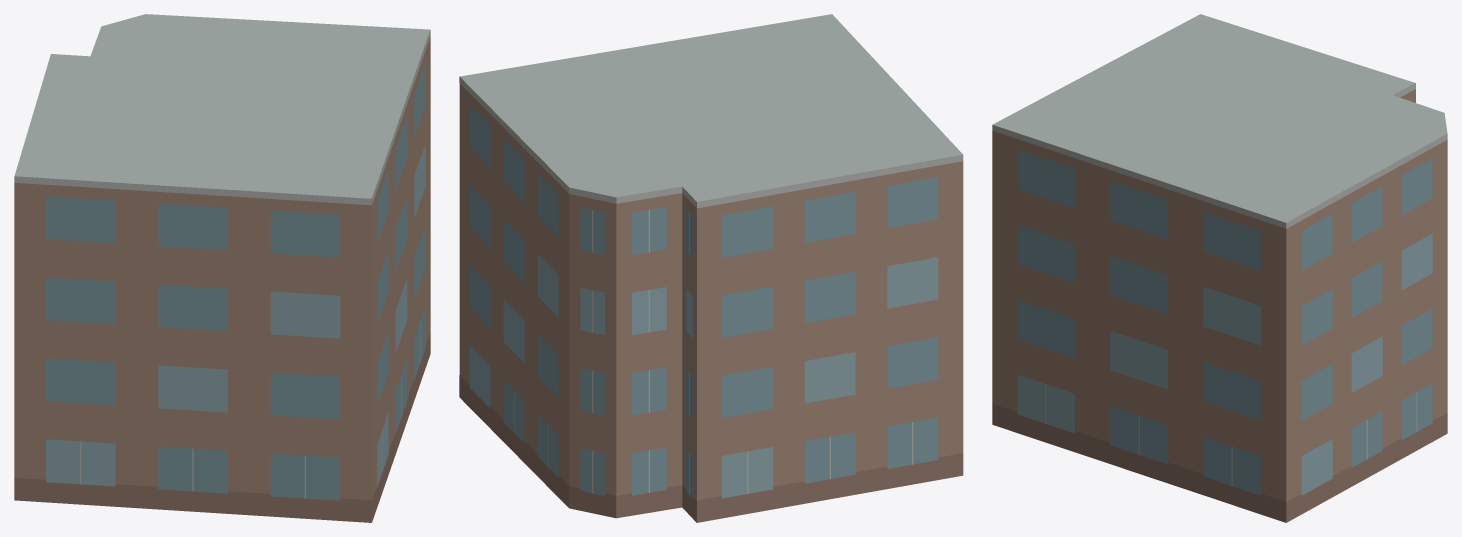
File: survey-upis-32524912.glb
3 renders of one model, left to right at view 1: azimuth 30°, elevation 25°; view 2: azimuth 150°, elevation 25°; view 3: azimuth 270°, elevation 25°, orthographic. The views are drawn at different scales.
Parts seen in each view (by area): view 1: survey-upis-32524912.tmp; view 2: survey-upis-32524912.tmp; view 3: survey-upis-32524912.tmp.
Part boxes in pixels (left/top/right/bottom): survey-upis-32524912.tmp: left=14, top=14, right=430, bottom=522; survey-upis-32524912.tmp: left=459, top=14, right=963, bottom=522; survey-upis-32524912.tmp: left=992, top=14, right=1447, bottom=522.
Bounding box in the file's own units: 18.23 × 12.2 × 16.79.
